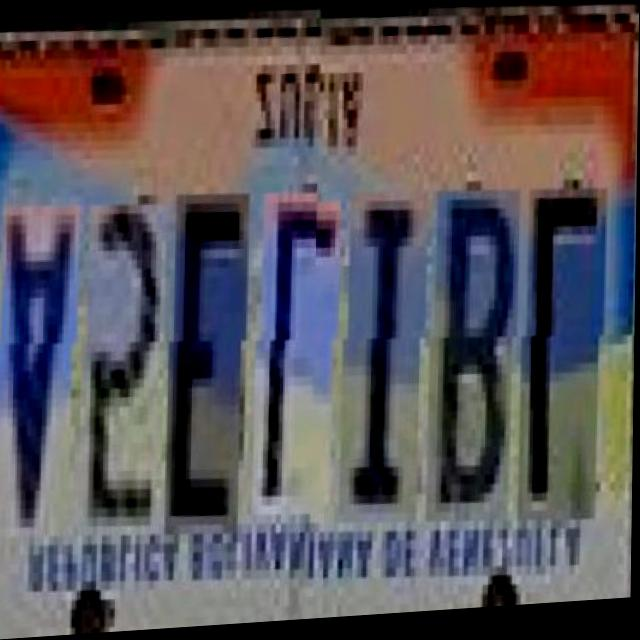5: (84, 201, 167, 539)
a: (0, 202, 80, 540)
b: (432, 178, 521, 517)
e: (170, 191, 249, 537)
i: (346, 179, 429, 518)
l: (525, 177, 608, 515), (259, 189, 342, 519)
